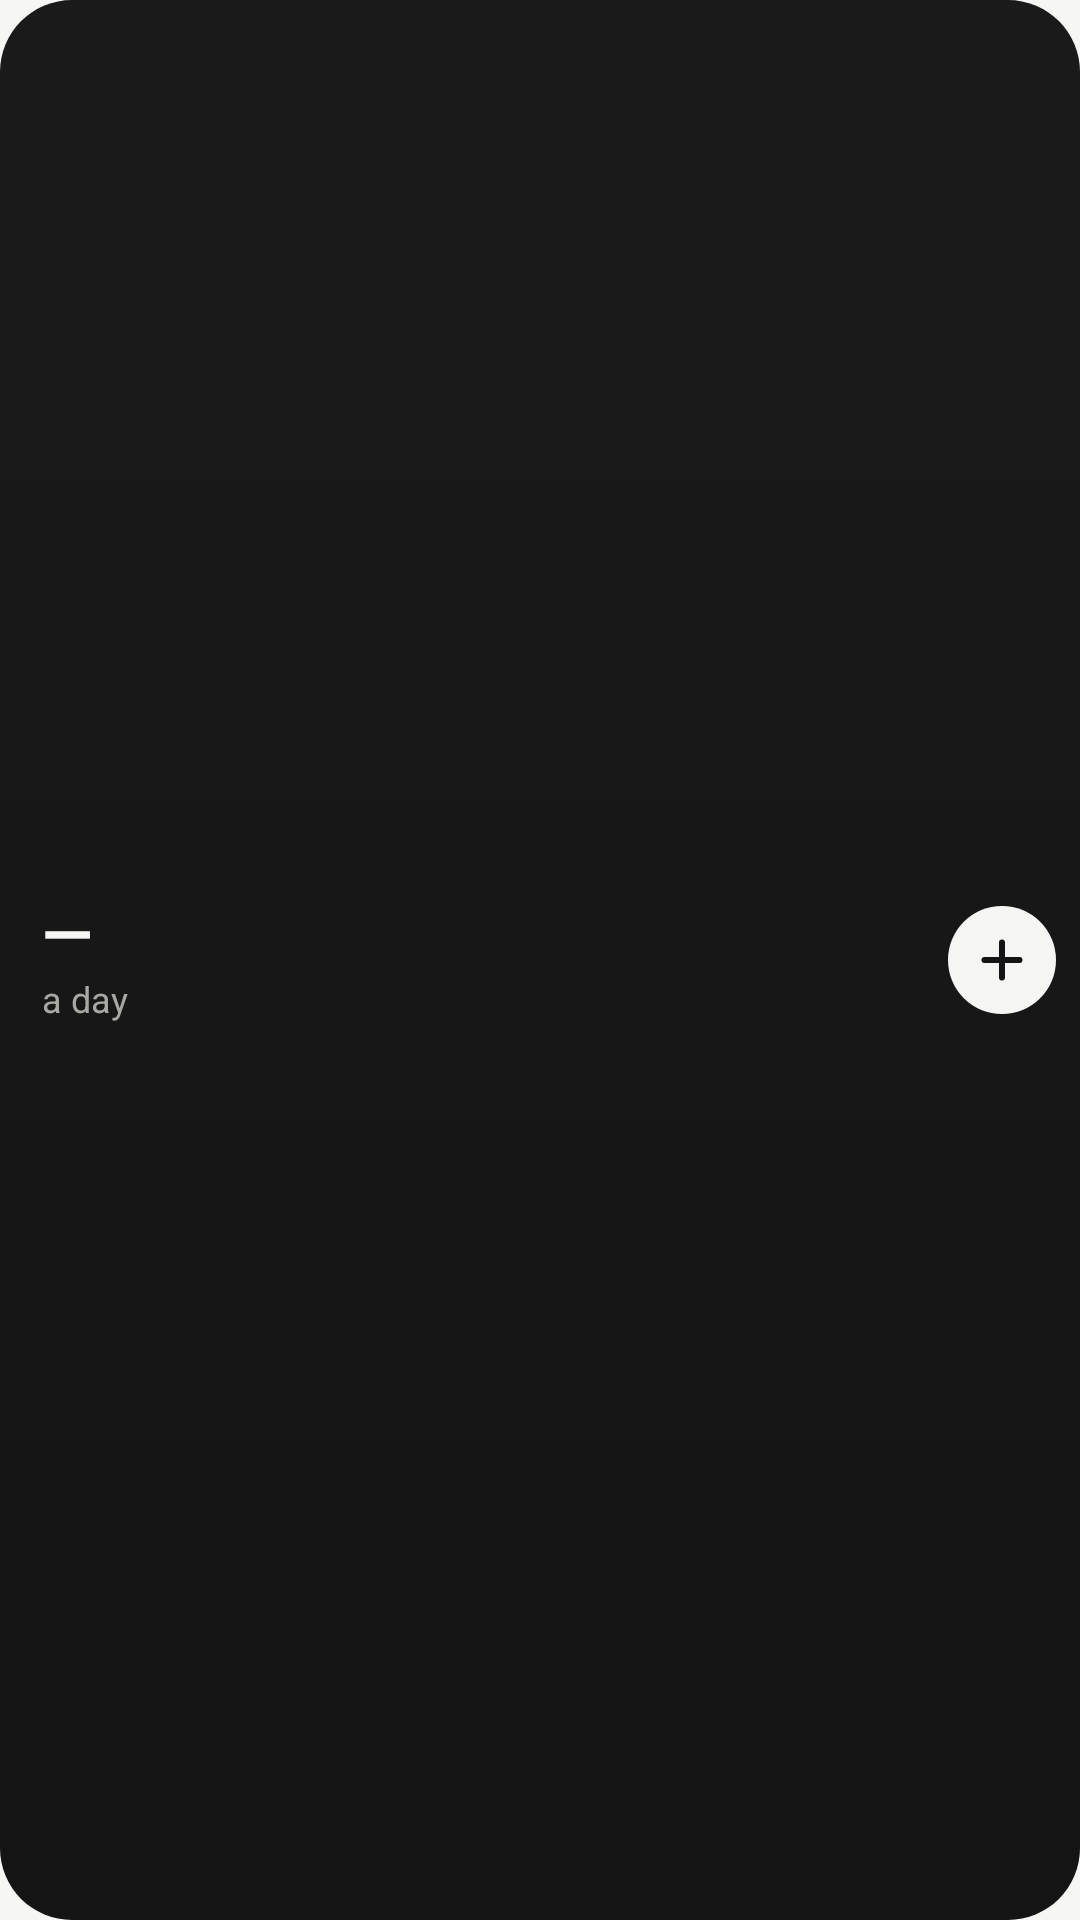

Where to tap for icons on this 1080px x 1920px app screen, as [x,y]:
Add a payment: [1002,960]
